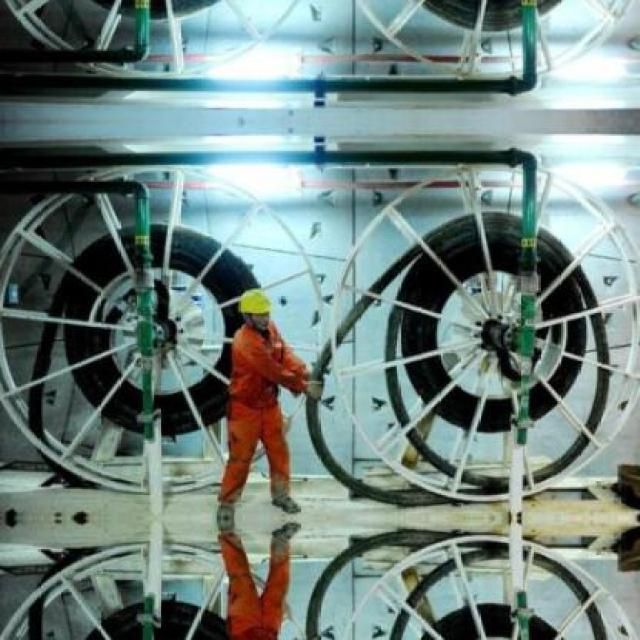helmet: (236, 287, 275, 325)
